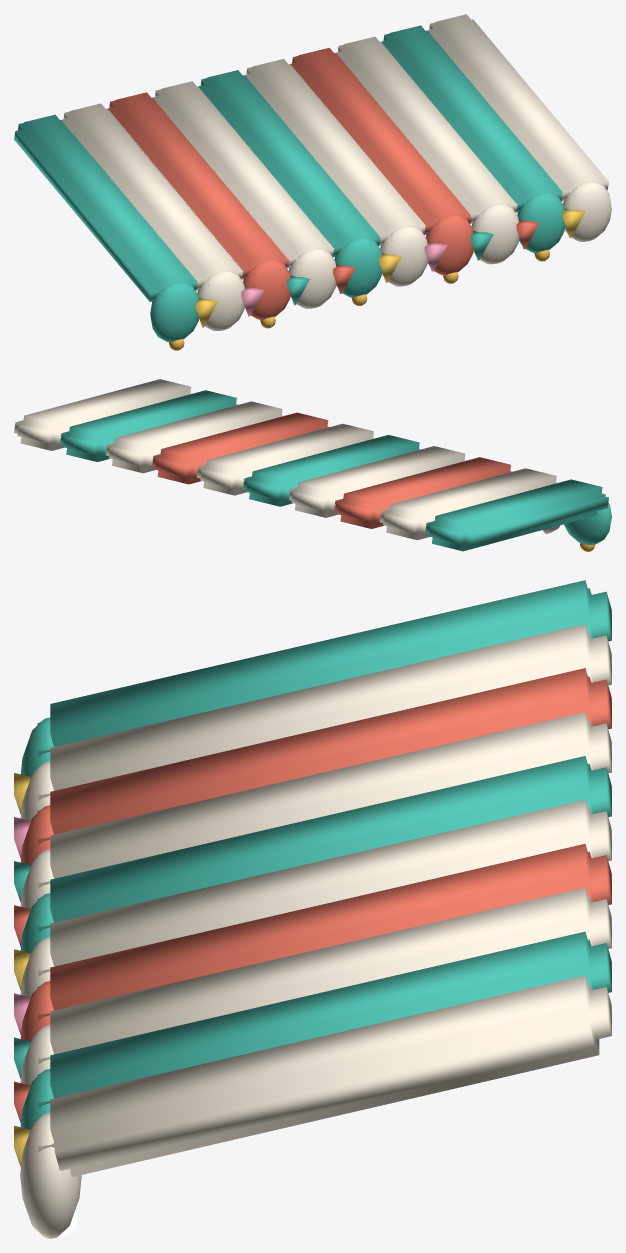
Rendered from KioskAwningUpgrade.fbx.
The picture shows the model from 3 angles, top to bottom: view 1: azimuth 30°, elevation 25°; view 2: azimuth 150°, elevation 25°; view 3: azimuth 270°, elevation 25°; orthographic projection. The views are drawn at different scales.
Parts seen in each view (by area): view 1: KioskAwningUpgrade; view 2: KioskAwningUpgrade; view 3: KioskAwningUpgrade.
Part boxes in pixels (box(x1,y1,x2,y2)): KioskAwningUpgrade: box(14, 14, 611, 350); KioskAwningUpgrade: box(14, 379, 611, 551); KioskAwningUpgrade: box(14, 580, 611, 1238).
Size of the model in its own units: 4.82 by 1.32 by 2.75.
